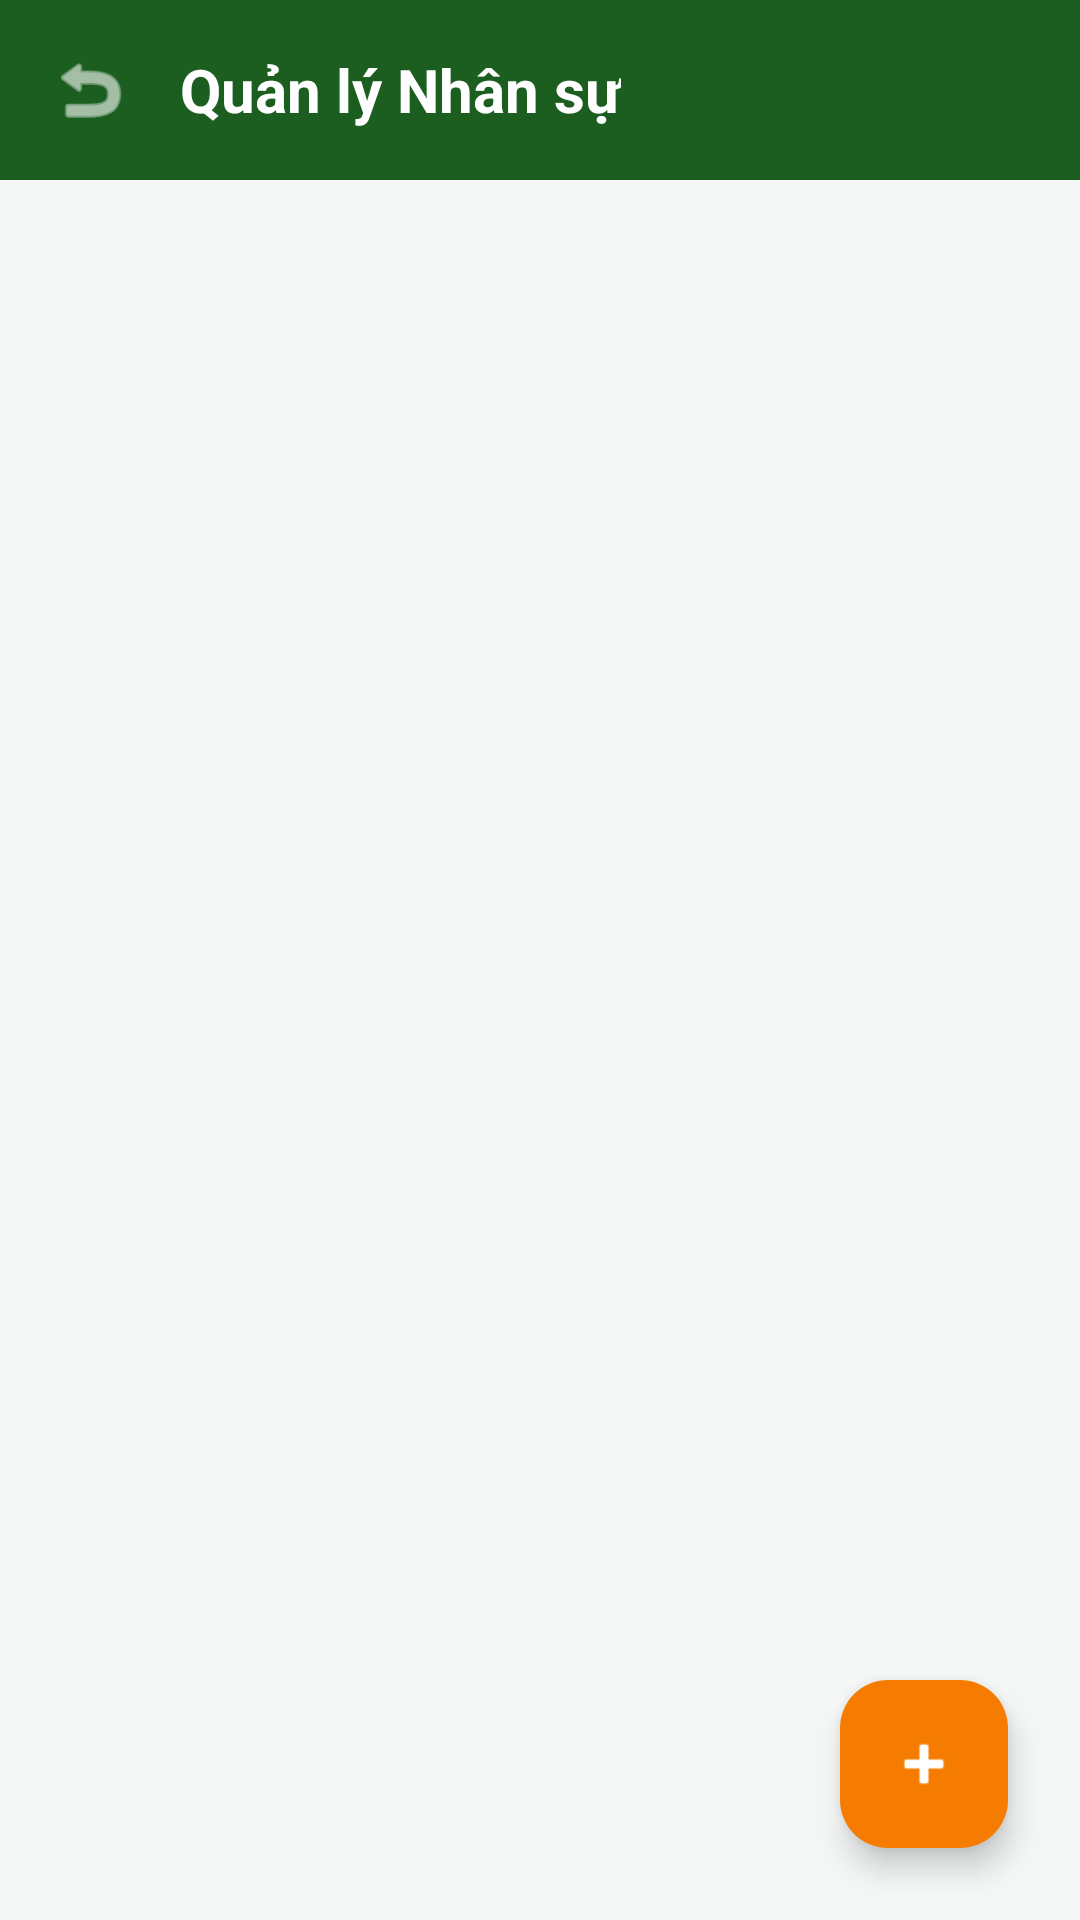

Point at icon controls on the screen. Image size 1080w x 1920h, points as point (x, y).
add: point (924, 1764)
revert: point (91, 90)
